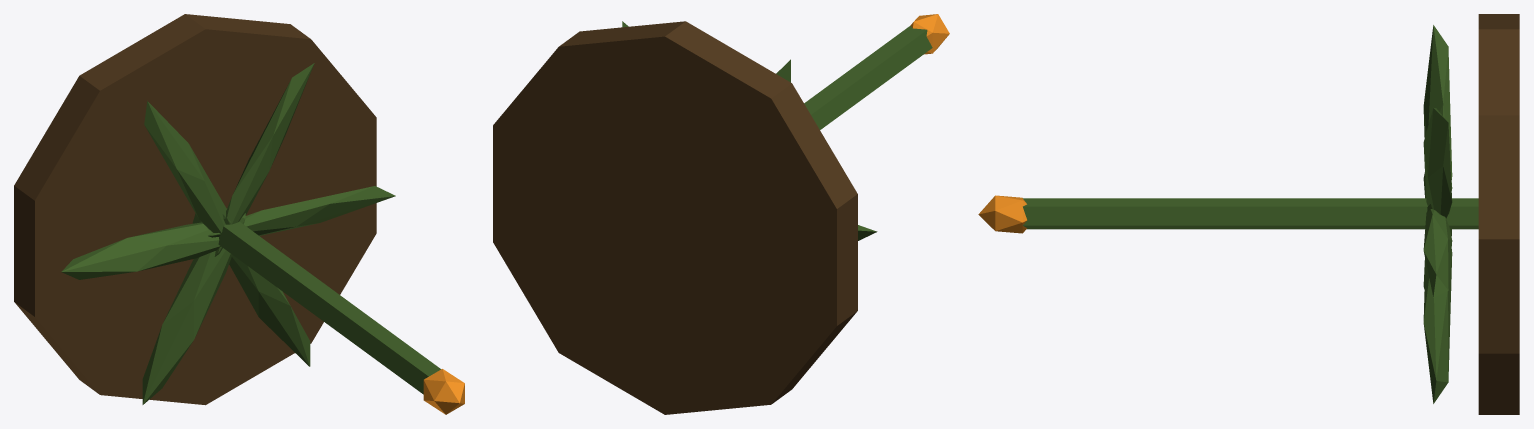
Rendered from 3_budding.obj.
The picture shows the model from 3 angles, left to right: view 1: azimuth 30°, elevation 25°; view 2: azimuth 150°, elevation 25°; view 3: azimuth 270°, elevation 25°; orthographic projection. The views are drawn at different scales.
Visible parts, largest first — view 1: marigold_3_budding; view 2: marigold_3_budding; view 3: marigold_3_budding.
Part boxes in pixels (<box>): marigold_3_budding: <box>14,14,464,414</box>; marigold_3_budding: <box>493,14,949,414</box>; marigold_3_budding: <box>978,14,1519,414</box>.
Bounding box in the file's own units: 0.1902 × 0.2 × 0.265.
